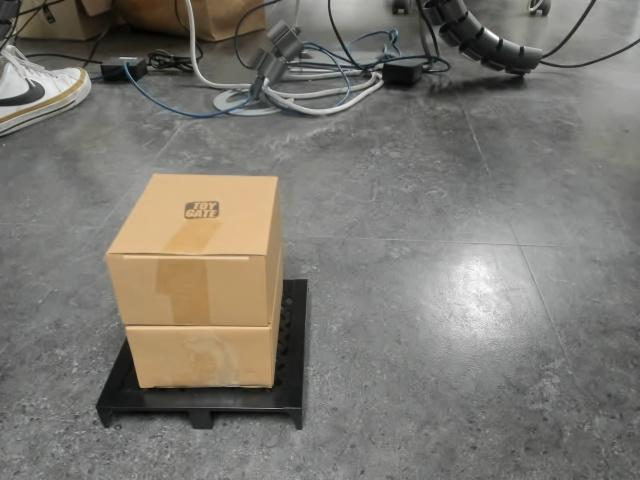box: (98, 172, 309, 433)
